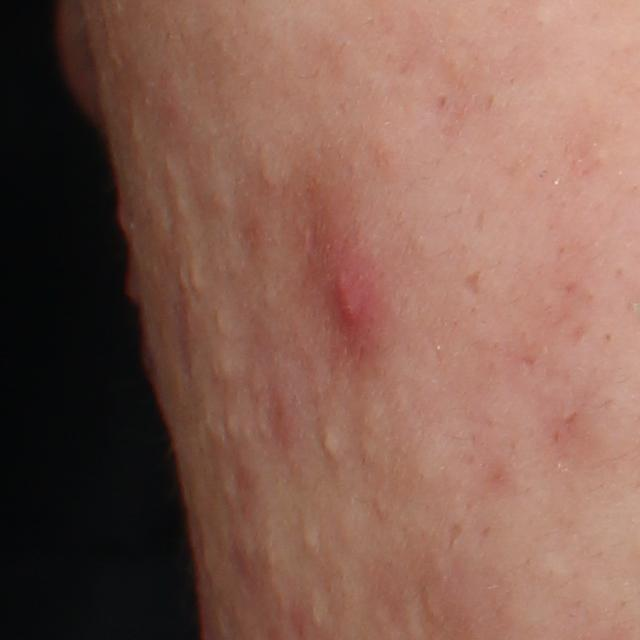atrophic_scar: (462, 268, 481, 298)
comedo: (199, 182, 236, 222), (206, 349, 242, 388), (294, 520, 321, 559), (256, 156, 279, 194), (316, 431, 342, 462), (210, 305, 229, 336), (188, 261, 206, 291)
